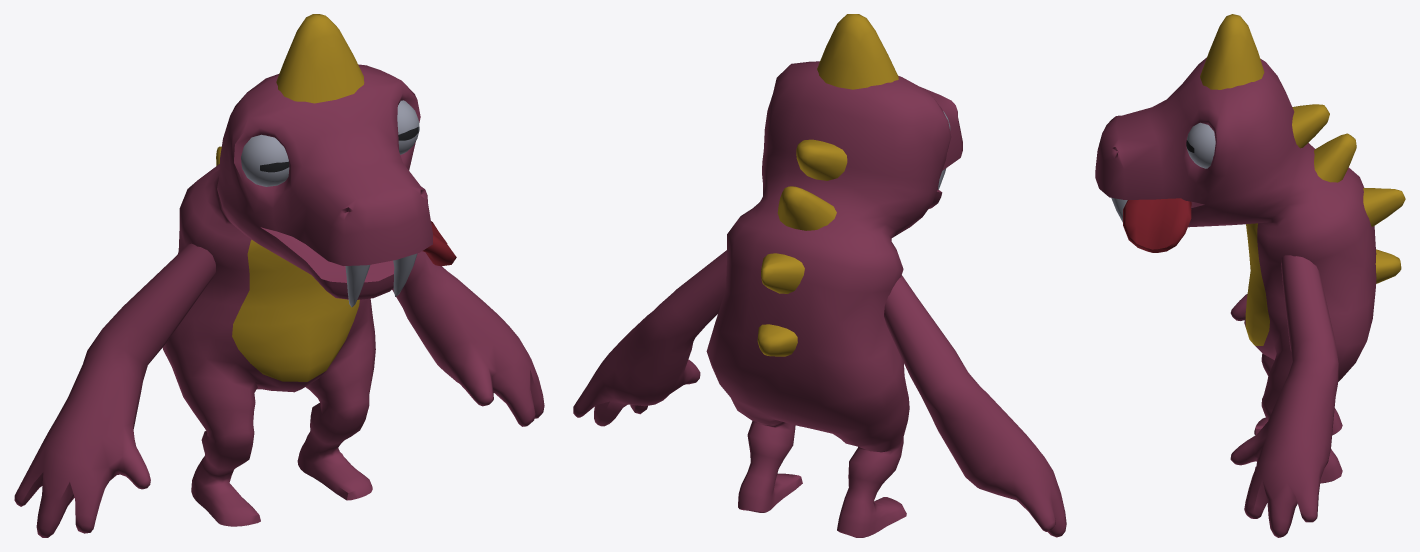
File: Dino.obj
The picture shows the model from 3 angles, left to right: view 1: azimuth 30°, elevation 25°; view 2: azimuth 150°, elevation 25°; view 3: azimuth 270°, elevation 25°; orthographic projection. The views are drawn at different scales.
Visible parts, largest first — view 1: Dino_Cube.081; view 2: Dino_Cube.081; view 3: Dino_Cube.081.
Part boxes in pixels (x1,y1,x2,y2): Dino_Cube.081: (14,14,544,537); Dino_Cube.081: (573,14,1066,537); Dino_Cube.081: (1095,14,1405,537).
Bounding box in the file's own units: 3.23 × 3.03 × 1.94.
